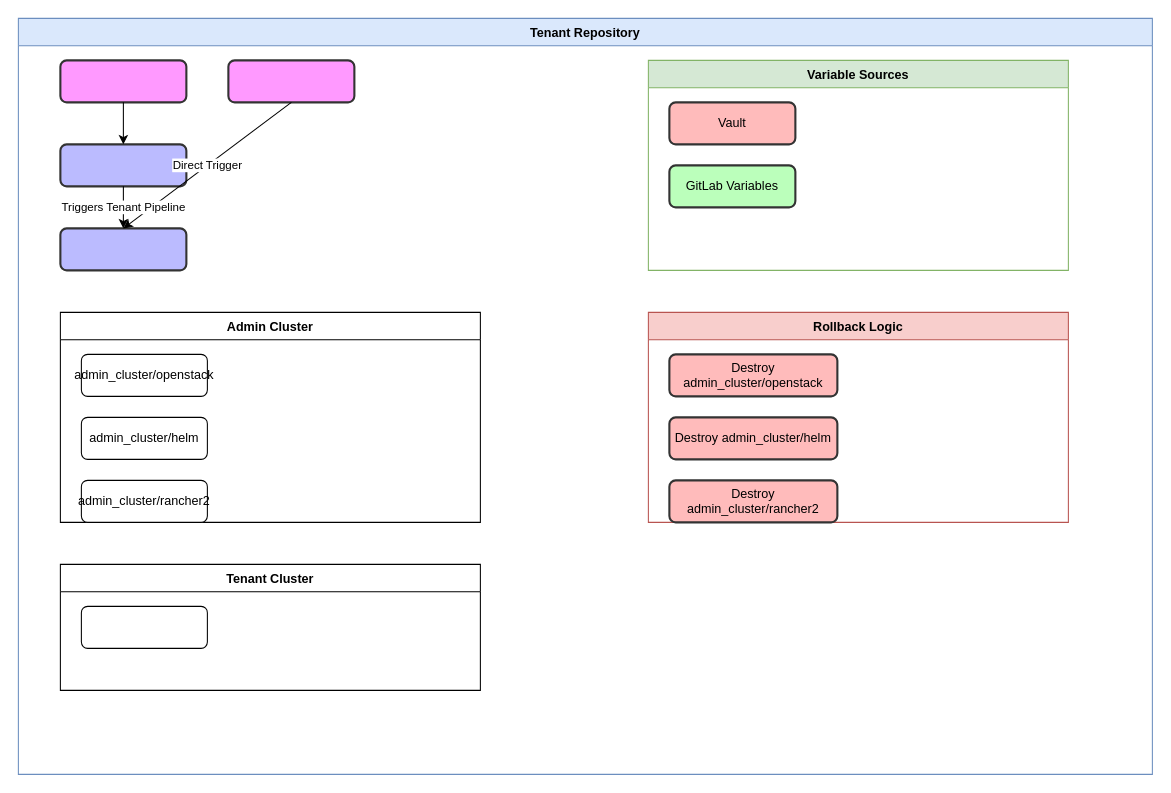
The diagram is 1171 pixels wide and 793 high, and some of its shapes have lost their labels. Each missing label, with the centre of its shape:
"Manual Trigger" goes at point (291, 81).
"Modules Pipeline" goes at point (123, 165).
"MR Created" goes at point (123, 81).
"Tenant Pipeline" goes at point (123, 249).
"tenant_cluster/rancher2" goes at point (143, 626).
